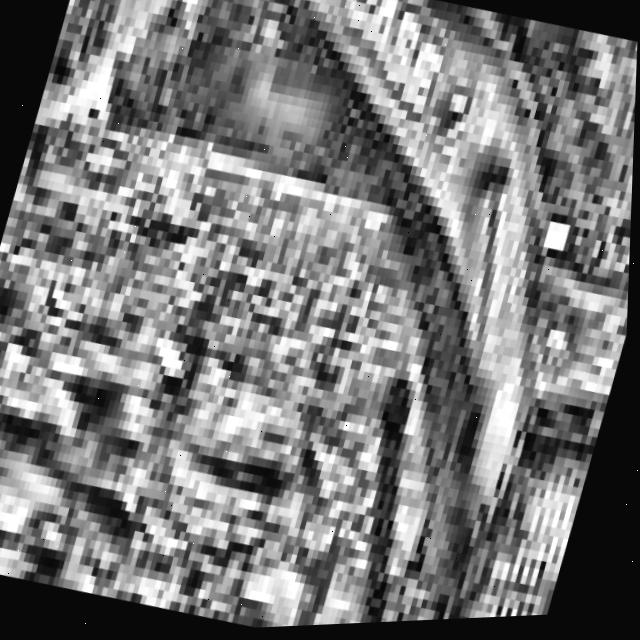excavator: (280, 287, 628, 630)
